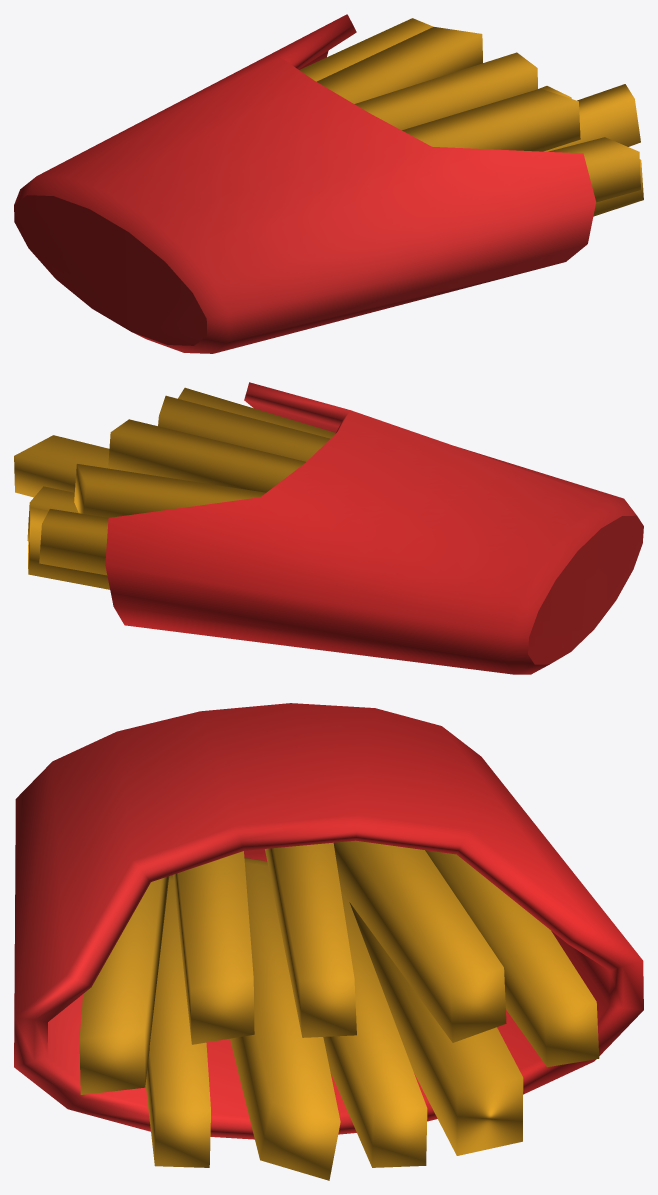
Rendered from FrenchFries.fbx.
The picture shows the model from 3 angles, top to bottom: view 1: azimuth 30°, elevation 25°; view 2: azimuth 150°, elevation 25°; view 3: azimuth 270°, elevation 25°; orthographic projection. The views are drawn at different scales.
Visible parts, largest first — view 1: FrenchFries; view 2: FrenchFries; view 3: FrenchFries.
Part boxes in pixels (bbox=[...]): FrenchFries: bbox=[14, 14, 643, 353]; FrenchFries: bbox=[14, 382, 643, 674]; FrenchFries: bbox=[14, 703, 643, 1180].
Bounding box in the file's own units: 0.2828 × 0.0808 × 0.1945.
